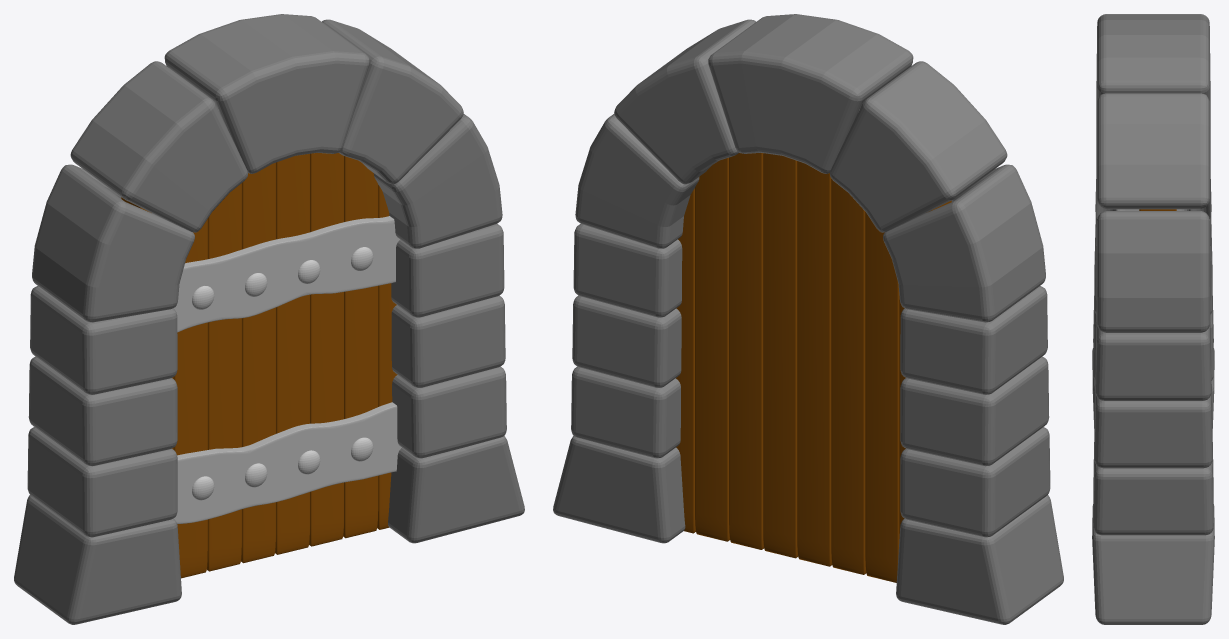
File: portaV2.glb
3 renders of one model, left to right at view 1: azimuth 30°, elevation 25°; view 2: azimuth 150°, elevation 25°; view 3: azimuth 270°, elevation 25°, orthographic. The views are drawn at different scales.
Parts seen in each view (by area): view 1: Cilindro-col, Cubo-col, Cubo.002-col, Cubo.001-col, Esfera UV.001-col, Esfera UV-col; view 2: Cilindro-col, Cubo-col; view 3: Cilindro-col.
Part boxes in pixels (<box>): Cilindro-col: <box>14,14,524,624</box>; Cubo-col: <box>121,153,397,578</box>; Cubo.002-col: <box>173,402,401,523</box>; Cubo.001-col: <box>173,216,399,332</box>; Esfera UV.001-col: <box>192,437,373,500</box>; Esfera UV-col: <box>192,247,373,309</box>; Cilindro-col: <box>553,14,1063,624</box>; Cubo-col: <box>676,153,951,582</box>; Cilindro-col: <box>1092,14,1214,624</box>.
Size of the model in its own units: 56.8 by 61.11 by 13.95.
